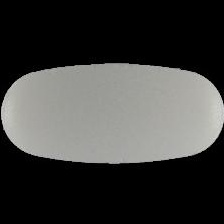63187-711: (0, 0, 224, 224)
